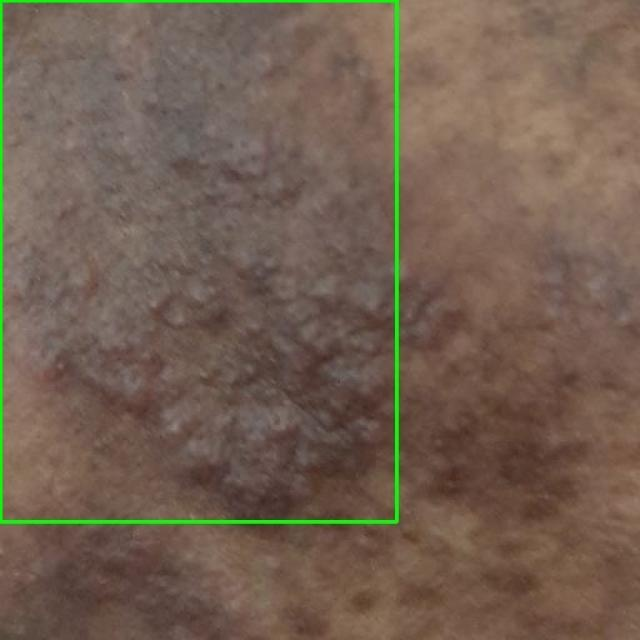Tinea Corporis: (0, 0, 396, 521)
